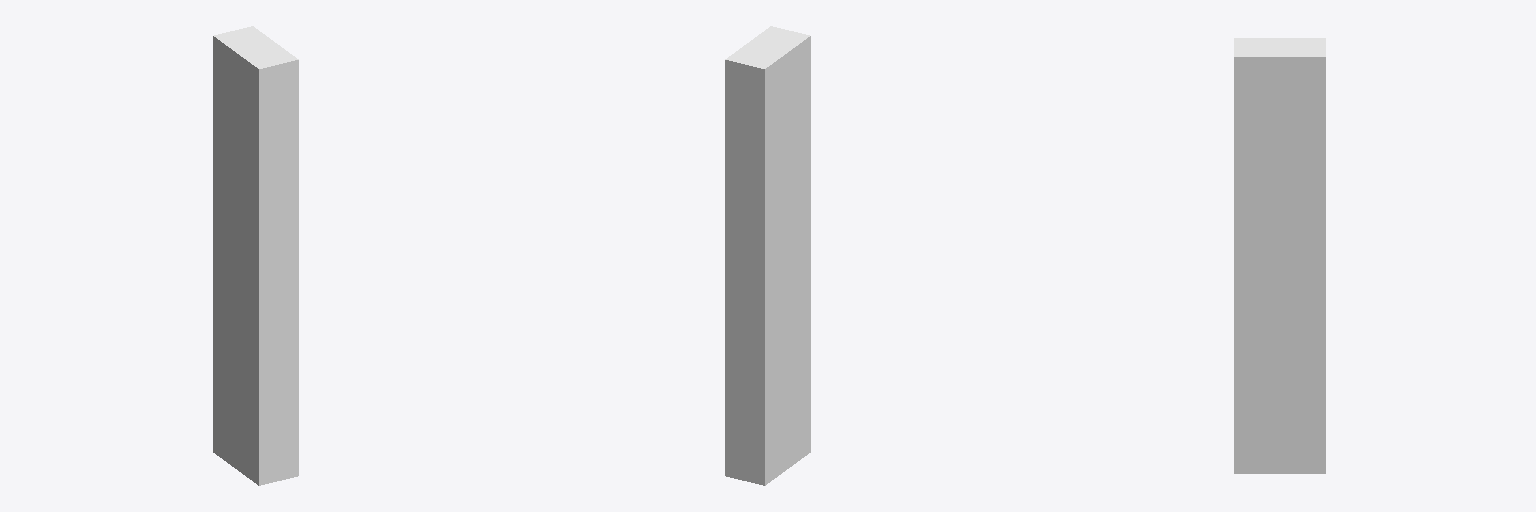
The model's file is SH_Enviorment-7-Small_BoardA.obj.
The picture shows the model from 3 angles: view 1: azimuth 30°, elevation 25°; view 2: azimuth 150°, elevation 25°; view 3: azimuth 270°, elevation 25°; orthographic projection.
Visible parts, largest first — view 1: Small_BoardA; view 2: Small_BoardA; view 3: Small_BoardA.
Boxes of the visible parts, x1,y1,x2,y2 form: Small_BoardA: [213, 26, 298, 485]; Small_BoardA: [725, 26, 810, 485]; Small_BoardA: [1234, 38, 1325, 473].
Size of the model in its own units: 0.1 by 1 by 0.2.